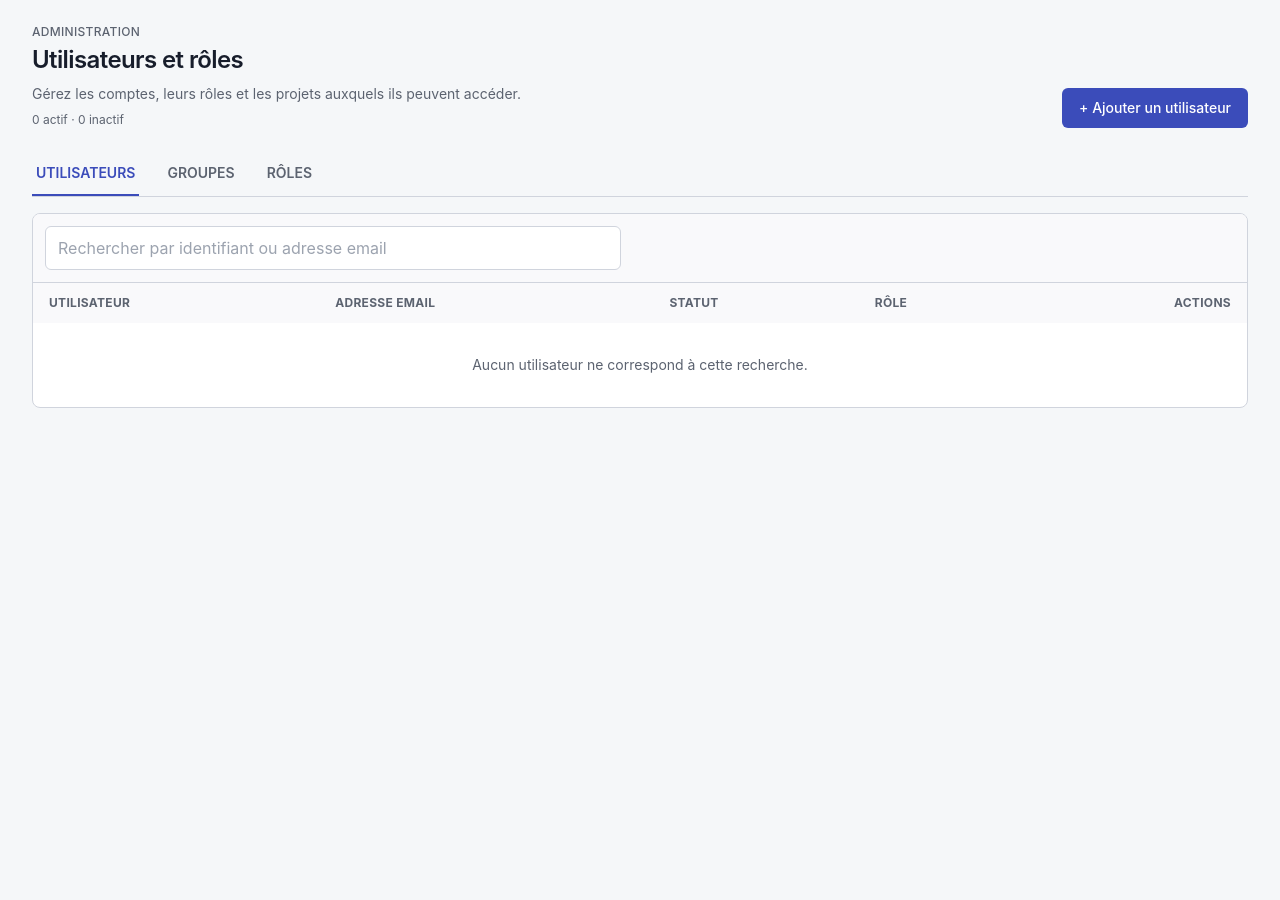
Test: Utilisateurs — mot de passe initial facultatif › un mot de passe saisi TROP COURT bloque toujours la création
This screenshot has width=1280, height=900.
Click the button "+ Ajouter un utilisateur".
click(1155, 108)  # box [1062,88,1248,128]
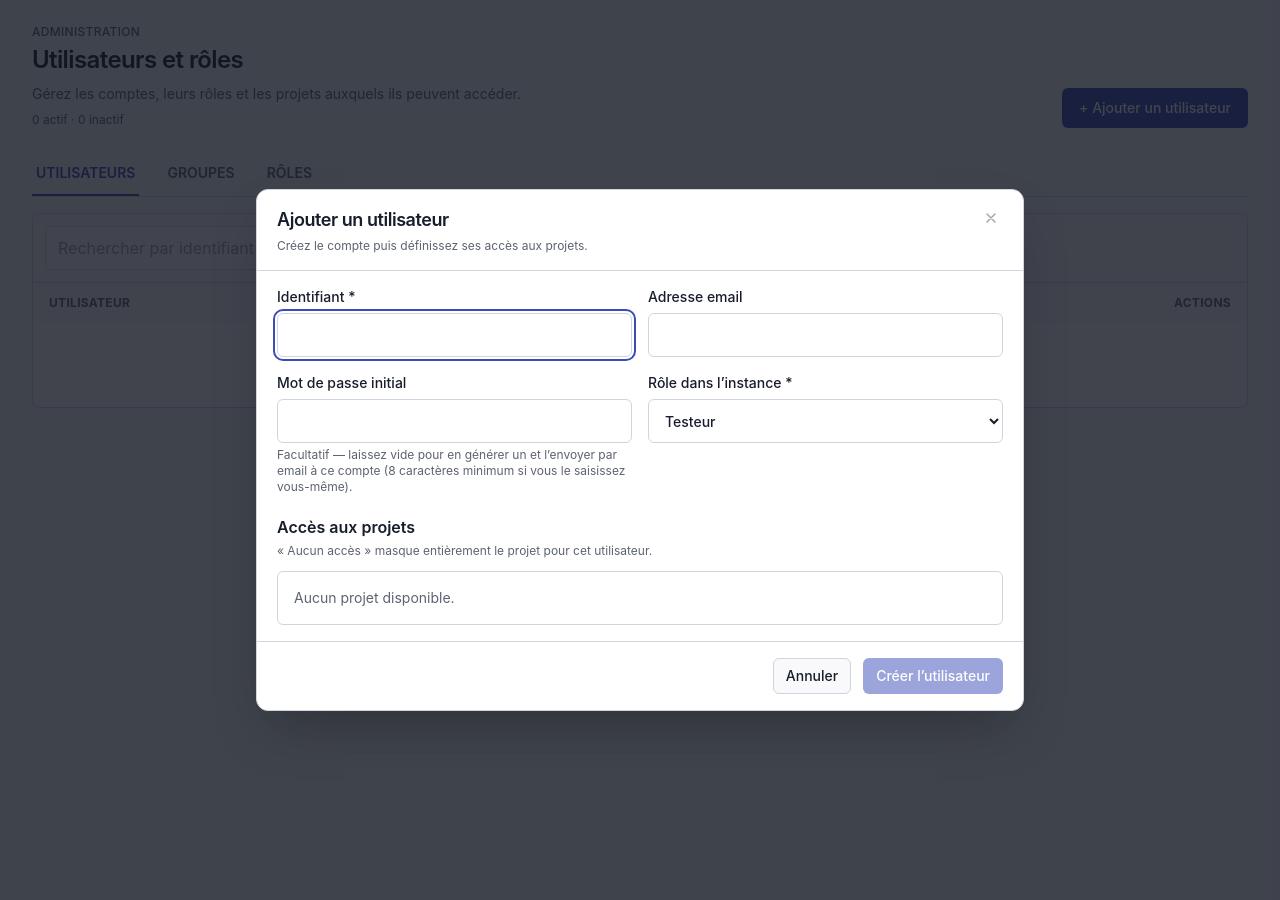
Type "leo" into the field named "username".
click(454, 335); type("leo")  # box [277,313,632,357]
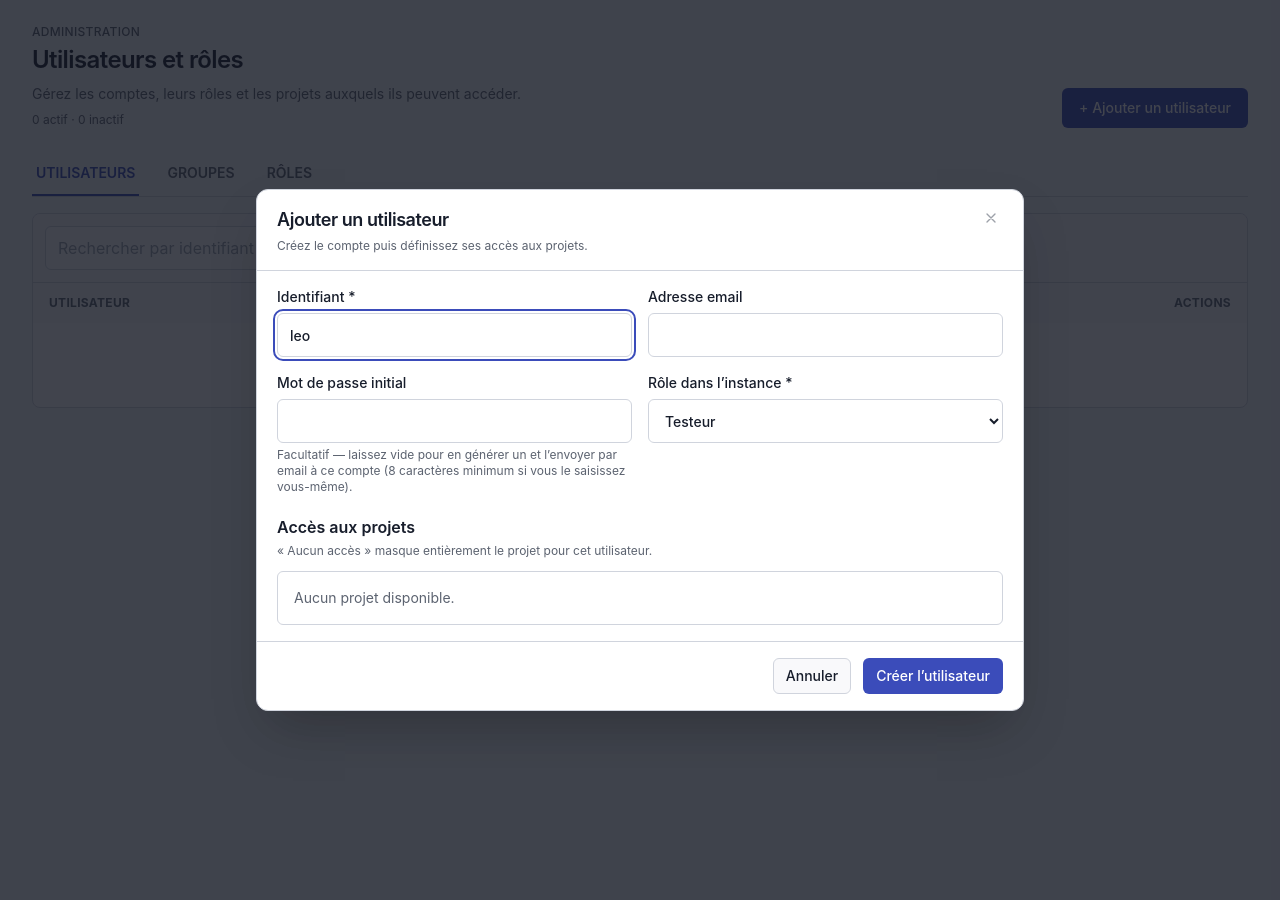
Type "court" into the password field named "new-password".
click(454, 421); type("court")  # box [277,399,632,443]
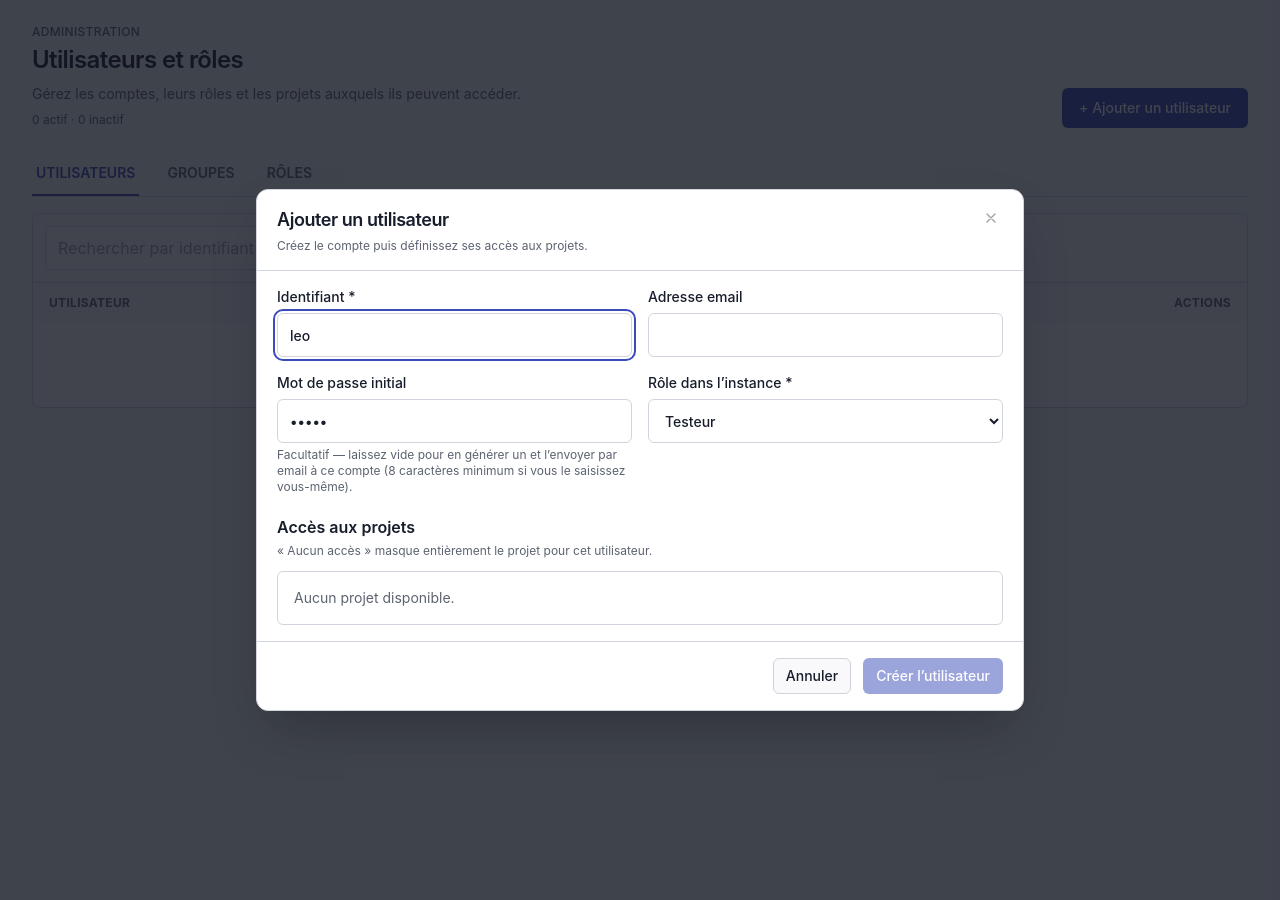
Now the button "Créer l’utilisateur" is disabled, box [863,658,1003,694]
